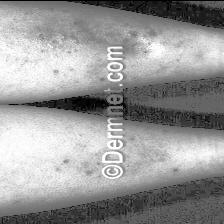Unclassified: (72, 15, 94, 25), (126, 28, 142, 38), (62, 155, 77, 165)
